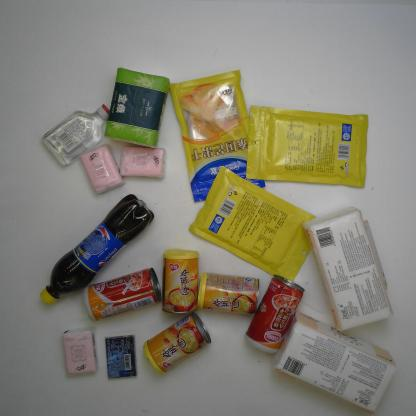Alcohol: (41, 104, 111, 167)
Canned Food: (244, 273, 304, 356), (82, 266, 161, 322), (143, 312, 212, 375), (196, 271, 260, 315), (161, 248, 199, 314)
Dried Fruit: (189, 166, 318, 284), (170, 69, 267, 203), (246, 105, 368, 188)
Drink: (38, 192, 156, 307)
Gum: (105, 335, 137, 379)
Tissue: (275, 308, 398, 414), (302, 205, 394, 332), (104, 67, 170, 148), (82, 144, 124, 194), (63, 326, 99, 377), (120, 145, 167, 179)
